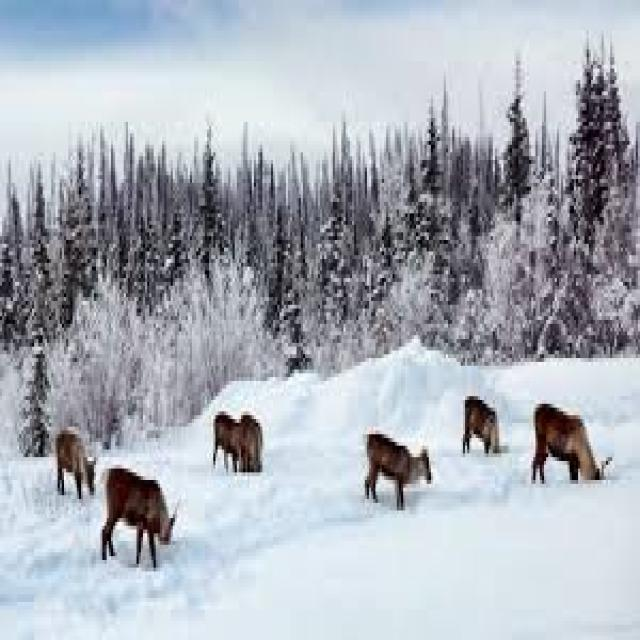reindeer: (100, 465, 173, 564), (531, 404, 608, 480), (365, 430, 429, 507), (55, 430, 94, 495), (463, 396, 499, 450), (213, 411, 241, 469), (237, 411, 260, 469)
